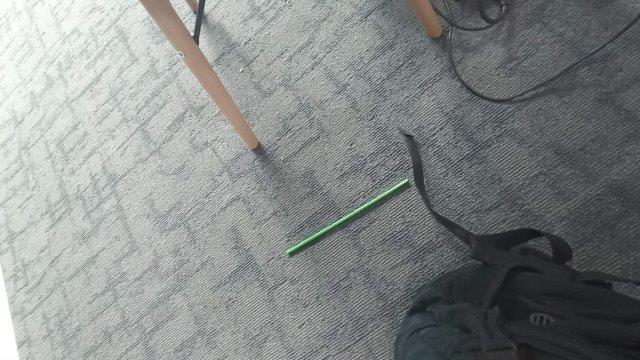sedotan: (287, 180, 408, 253)
